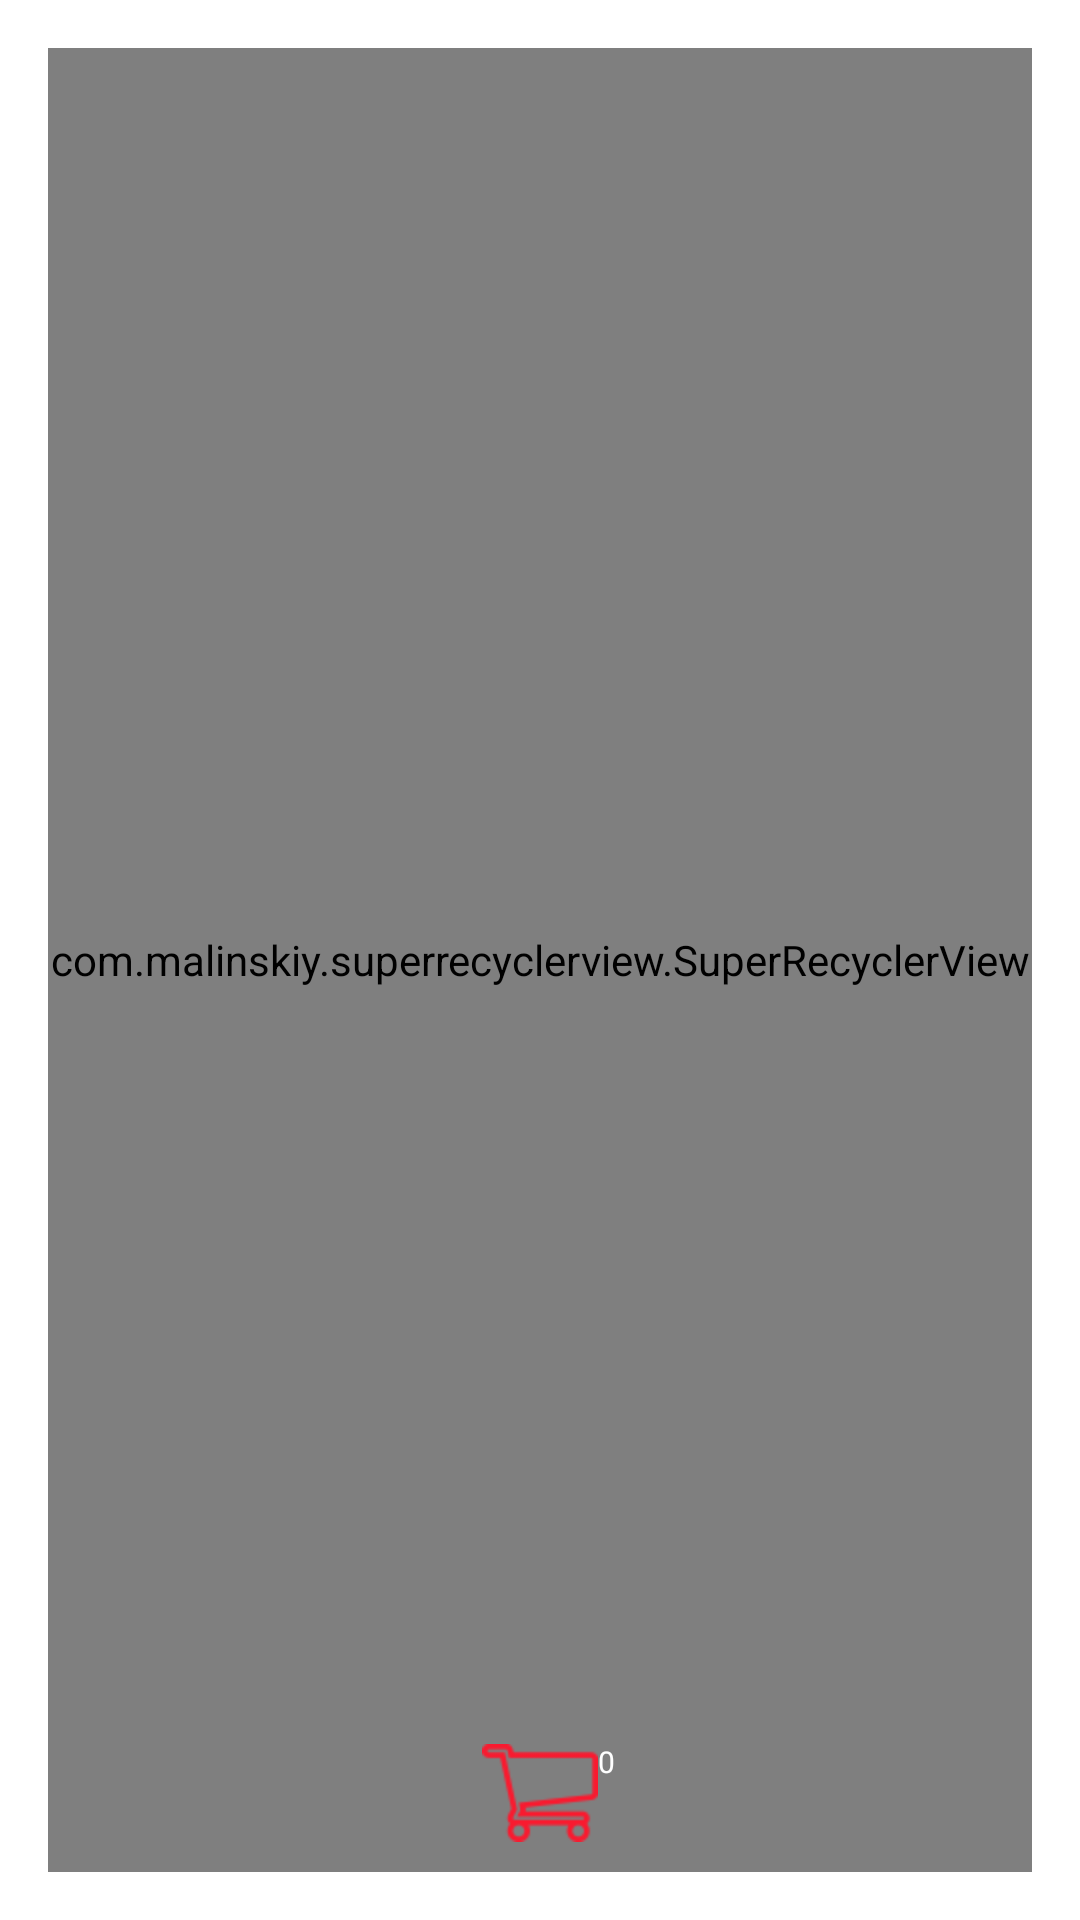

Named icons in this screenshot (1080w x 1920h) and their bounding boxes, (x1, y1, x2, y2):
shopping cart: (482, 1744, 598, 1842)
